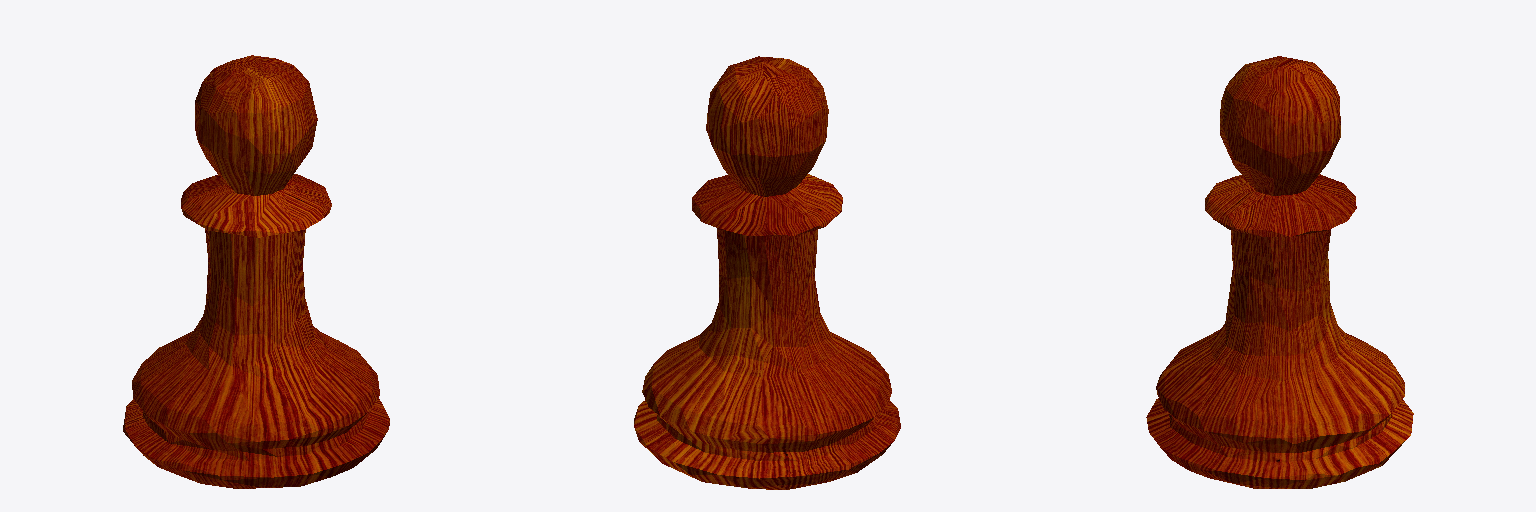
3 renders of one model, left to right at view 1: azimuth 30°, elevation 25°; view 2: azimuth 150°, elevation 25°; view 3: azimuth 270°, elevation 25°, orthographic.
Parts seen in each view (by area): view 1: mesh01.001; view 2: mesh01.001; view 3: mesh01.001.
Part boxes in pixels (bbox=[...]): mesh01.001: bbox=[123, 55, 389, 488]; mesh01.001: bbox=[634, 56, 900, 489]; mesh01.001: bbox=[1146, 56, 1413, 488].
Size of the model in its own units: 12.19 by 19.3 by 12.16.
1 materials, 1 textured.